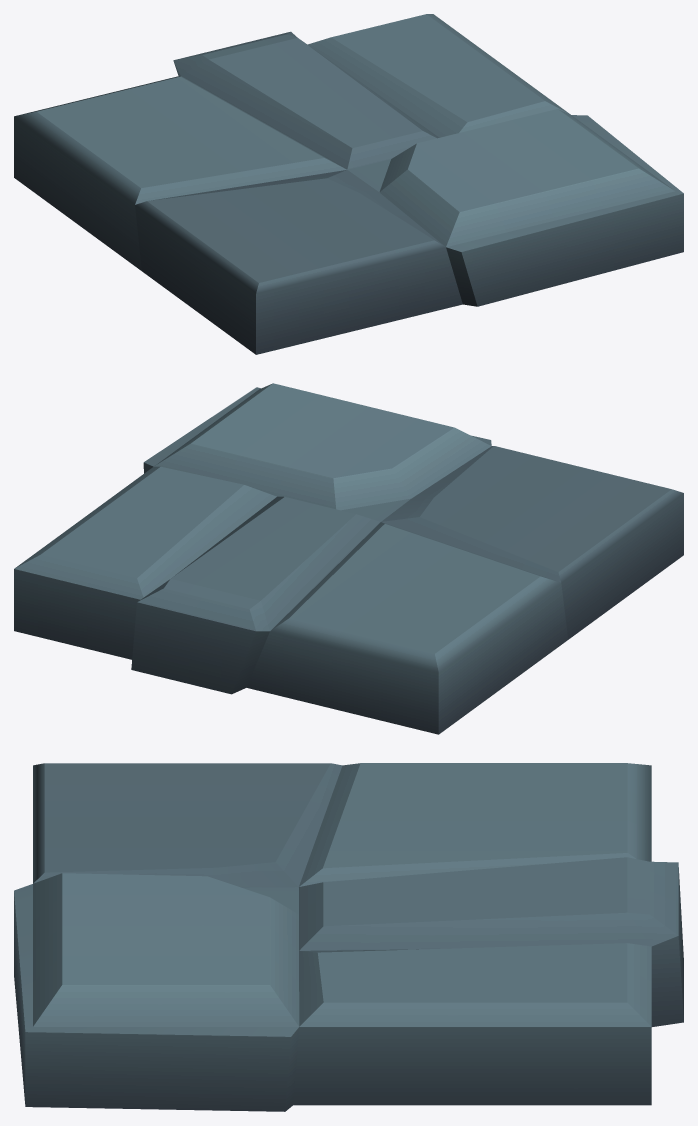
Rendered from Modular_Dungeon_Tile_Irregular_Single.fbx.
3 renders of one model, top to bottom at view 1: azimuth 30°, elevation 25°; view 2: azimuth 150°, elevation 25°; view 3: azimuth 270°, elevation 25°, orthographic. The views are drawn at different scales.
Visible parts, largest first — view 1: Tile_Irregular_Single; view 2: Tile_Irregular_Single; view 3: Tile_Irregular_Single.
Part boxes in pixels (bbox=[...]): Tile_Irregular_Single: bbox=[14, 14, 683, 354]; Tile_Irregular_Single: bbox=[14, 383, 683, 734]; Tile_Irregular_Single: bbox=[14, 763, 683, 1111].
Size of the model in its own units: 3.31 by 0.5995 by 3.48.
1 material, 1 textured.
